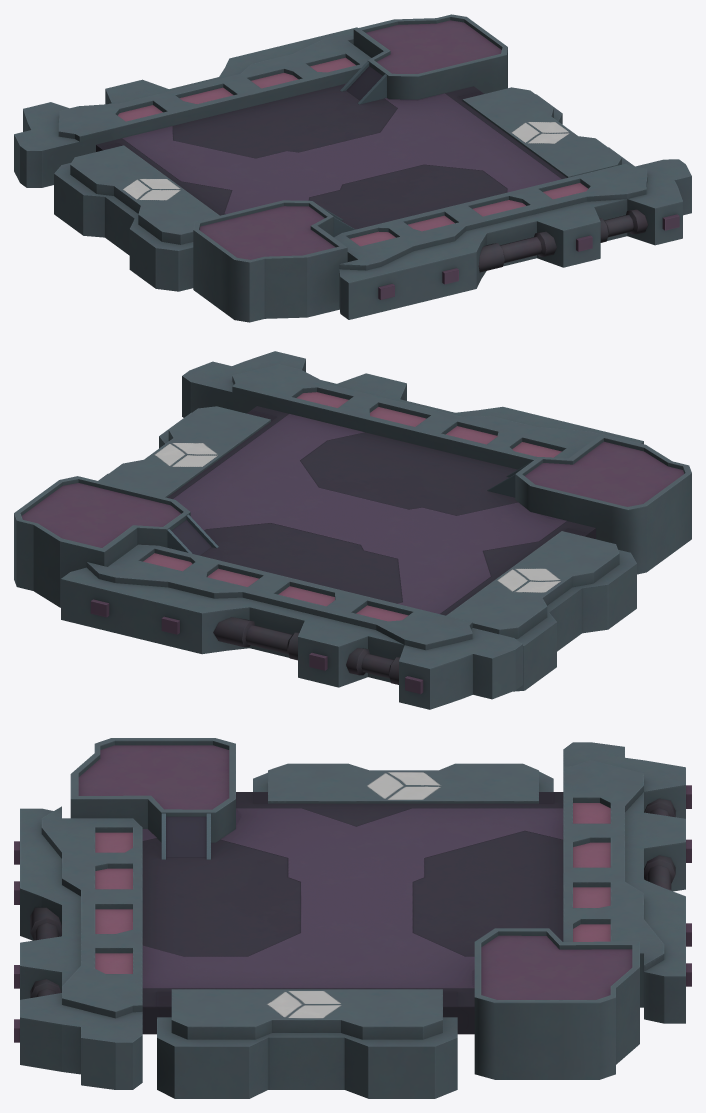
The model's file is maps.fbx.
3 views of the same model, one above another, from view 1: azimuth 30°, elevation 25°; view 2: azimuth 150°, elevation 25°; view 3: azimuth 270°, elevation 25° (orthographic). The views are drawn at different scales.
Parts seen in each view (by area): view 1: transitStation_geo; view 2: transitStation_geo; view 3: transitStation_geo.
Part boxes in pixels (bbox=[...]): transitStation_geo: bbox=[14, 14, 691, 322]; transitStation_geo: bbox=[14, 351, 691, 709]; transitStation_geo: bbox=[14, 738, 691, 1098].
Bounding box in the file's own units: 117 × 16.88 × 112.
Materials: 1 (1 with a texture image).
